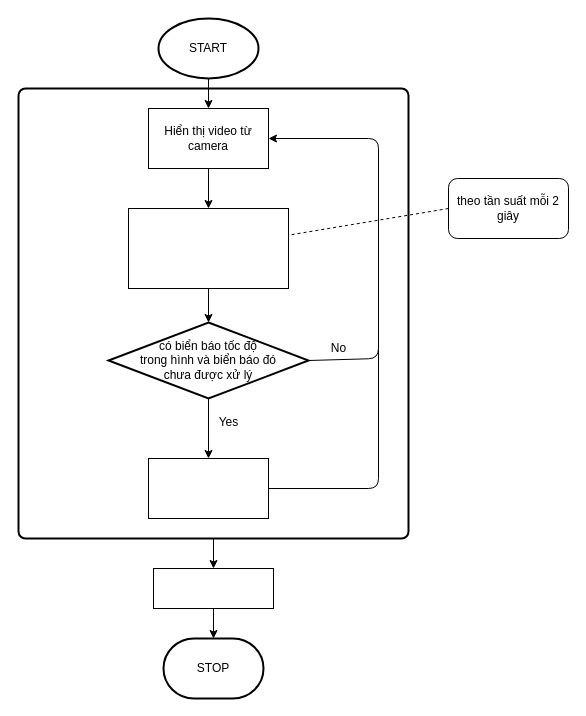
The diagram is 586 pixels wide and 716 high, and some of its shapes have lost their labels. Here are the shapes that lost their labels. From the top down, the box of each, then its label:
(128, 208, 288, 288): Kiểm tra hình ảnh (cắt ra từ video) của camera theo thời gian thực
(148, 458, 268, 518): Hiển thị cảnh báo của biển báo trên màn hình
(152, 568, 274, 608): Tắt ứng dụng
